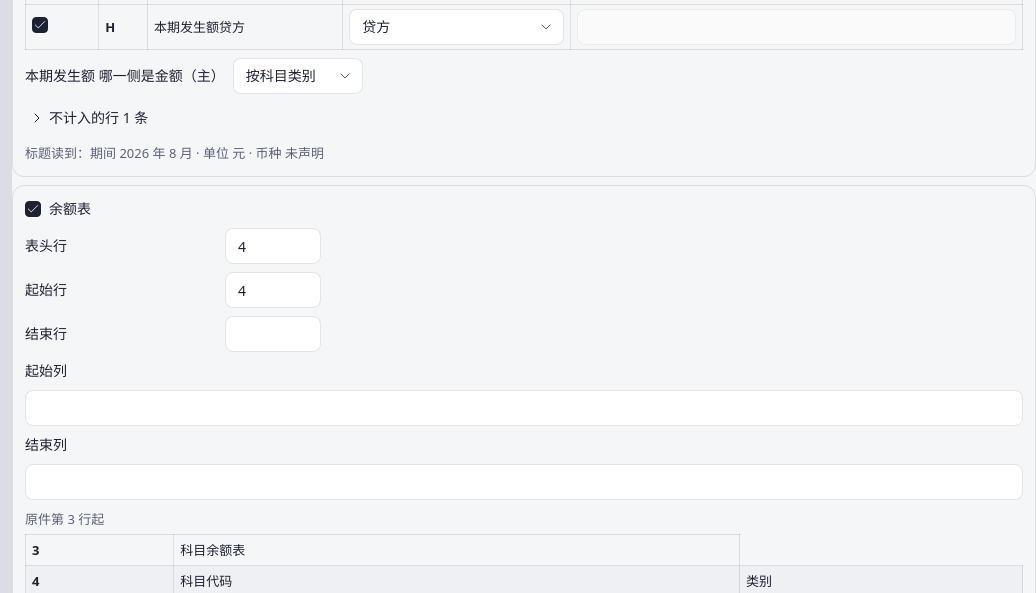
Test: structure confirmation card › lets one undecided sheet be set aside without blocking the others
(page scrolled)
Click the checkbox named "采用 余额表" at [33, 209], box 25,201 -> 41,217
(page scrolled)
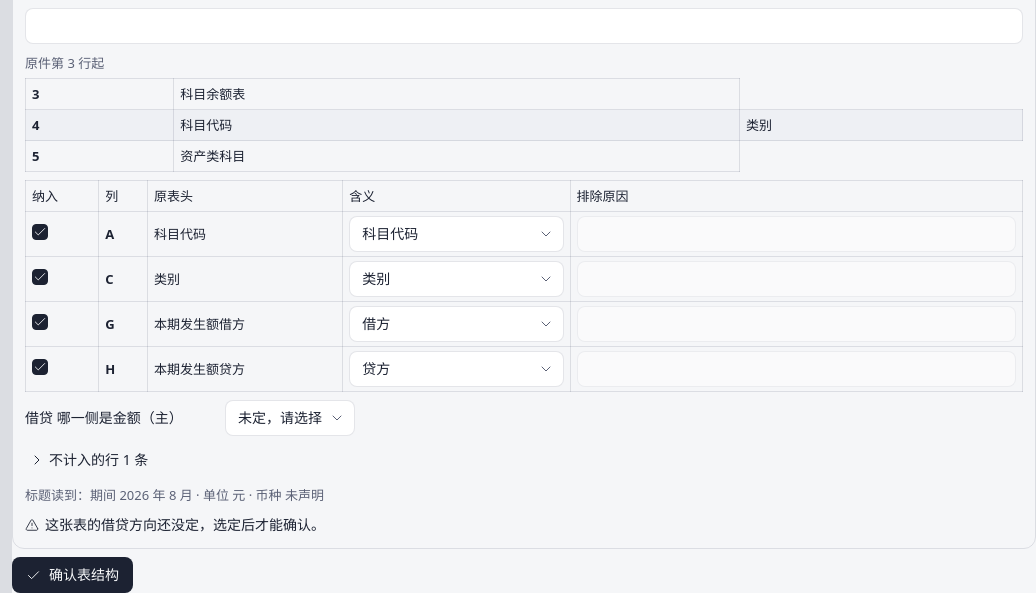
Expected: the button "确认表结构" is enabled, 12,558 -> 133,592
